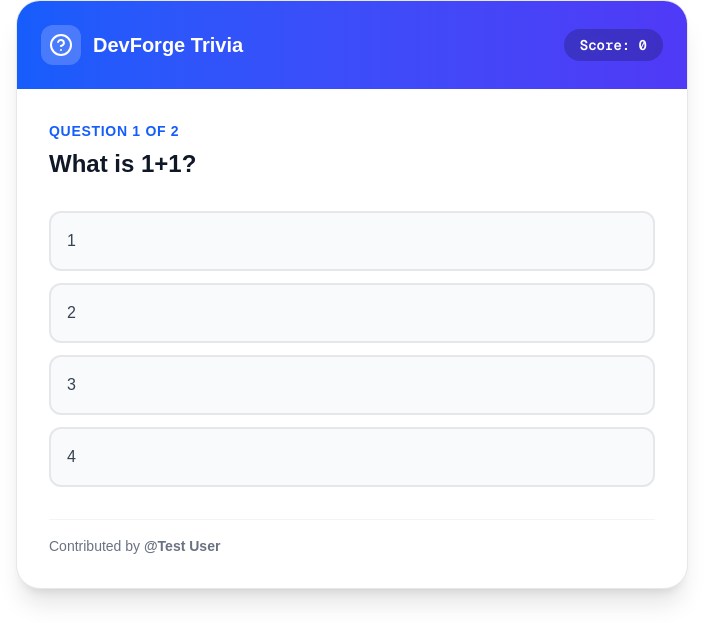
Test case: TriviaGame Component › allows answering a question and advances after timeout
# Click the correct answer
Step 1. Click the button "2" → (71, 312), box [49,283,655,343]
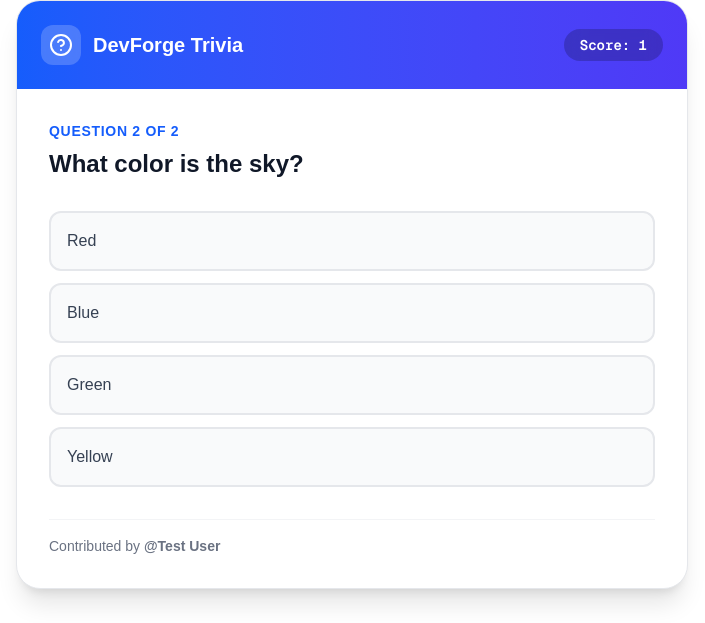
Expected: the text "Score: 1" is shown, [564,29,663,61]
Expected: the heading "What color is the sky?" is shown, [49,150,304,177]
